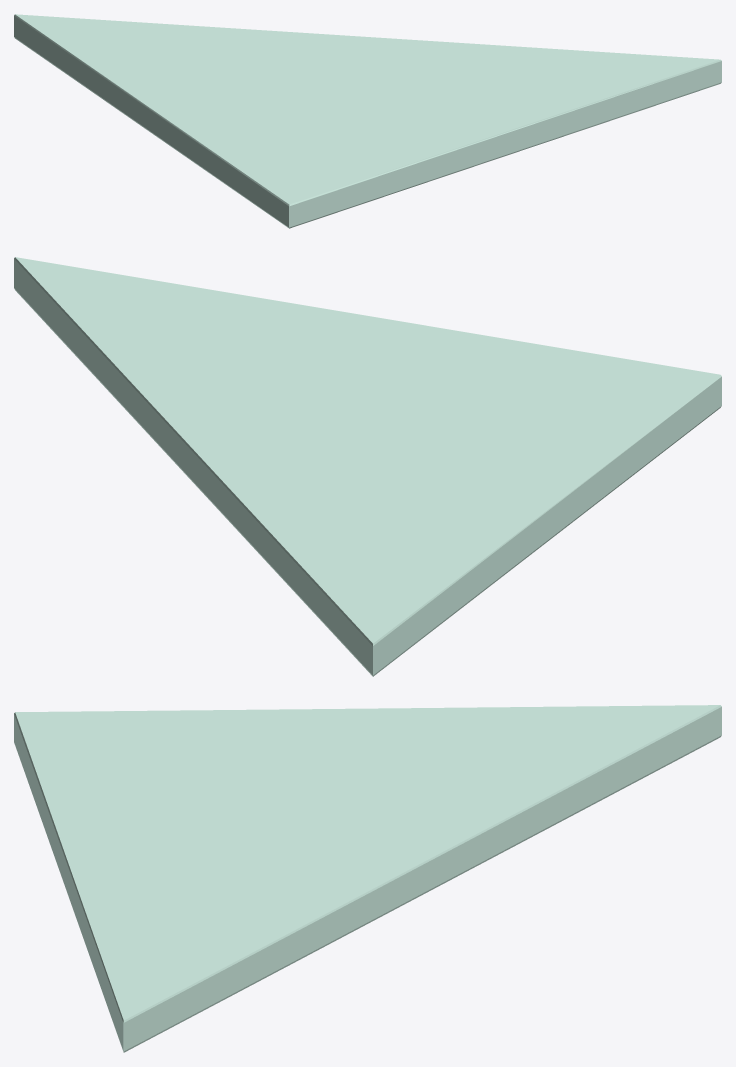
File: AND.glb
3 views of the same model, one above another, from view 1: azimuth 30°, elevation 25°; view 2: azimuth 150°, elevation 25°; view 3: azimuth 270°, elevation 25° (orthographic). The views are drawn at different scales.
Size of the model in its own units: 1.43 by 0.068 by 1.35.
